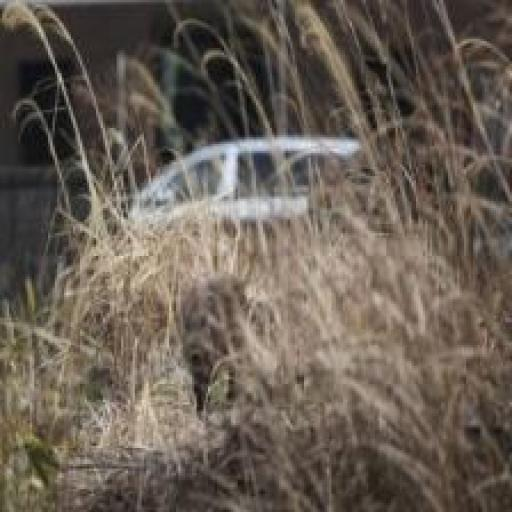Pig: (174, 268, 256, 420)
